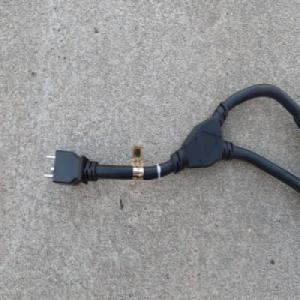Wire: (41, 83, 300, 206)
